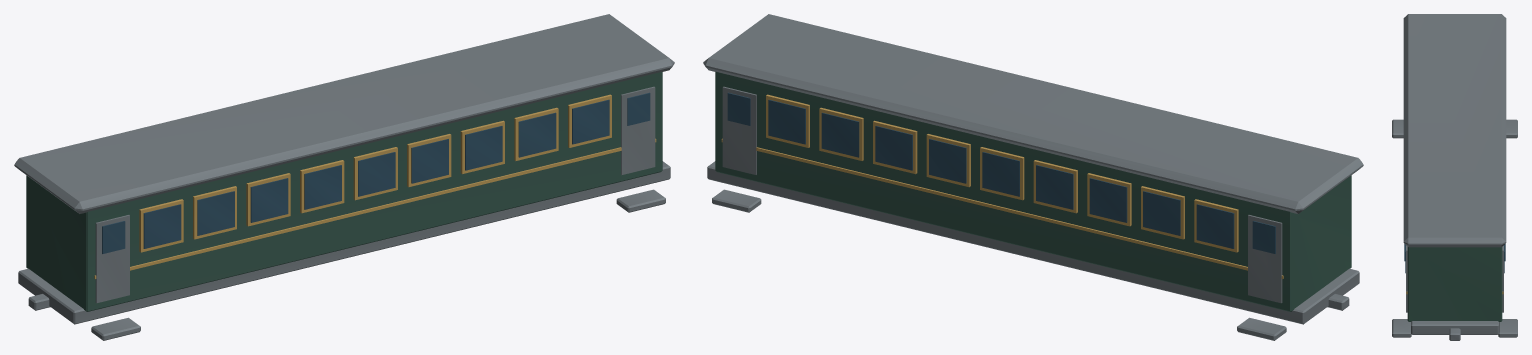
The model's file is coach.glb.
3 renders of one model, left to right at view 1: azimuth 30°, elevation 25°; view 2: azimuth 150°, elevation 25°; view 3: azimuth 270°, elevation 25°, orthographic. The views are drawn at different scales.
Visible parts, largest first — view 1: coach chassis, coach body, window, window surround; view 2: coach chassis, coach body, window, window surround; view 3: coach chassis, coach body.
Part boxes in pixels (box(x1,y1,x2,y2)): coach chassis: box(14, 14, 674, 340); coach body: box(26, 72, 662, 311); window: box(102, 92, 650, 253); window surround: box(94, 94, 656, 278); coach chassis: box(703, 14, 1363, 340); coach body: box(715, 72, 1351, 311); window: box(727, 92, 1275, 253); window surround: box(721, 94, 1283, 278); coach chassis: box(1392, 14, 1517, 340); coach body: box(1407, 247, 1502, 321).
Size of the model in its own units: 12.16 by 2.51 by 2.72.
